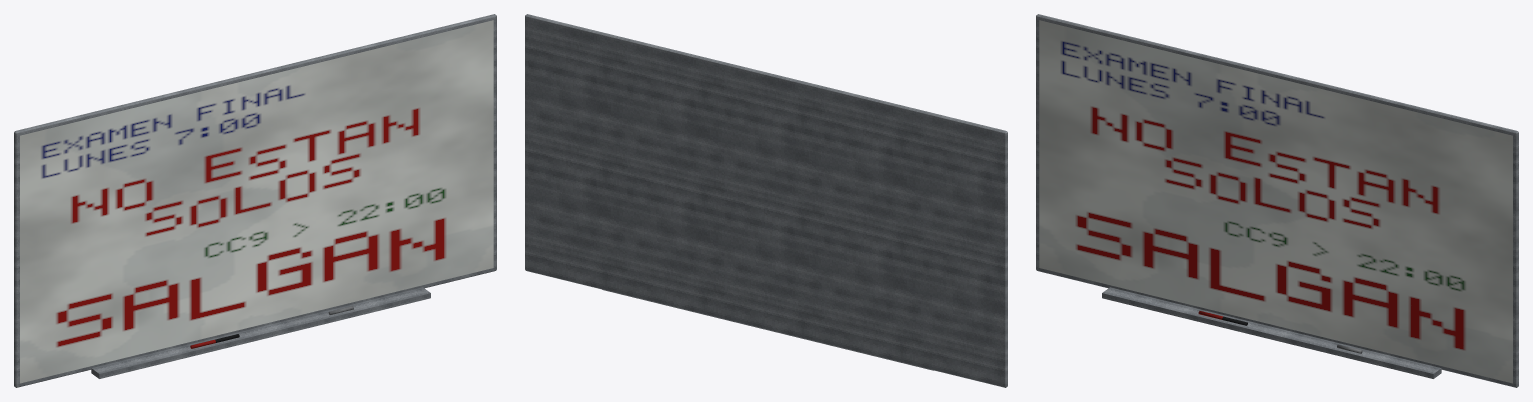
Rendered from Lab_Whiteboard.fbx.
The picture shows the model from 3 angles, left to right: view 1: azimuth 30°, elevation 25°; view 2: azimuth 150°, elevation 25°; view 3: azimuth 330°, elevation 25°; orthographic projection.
Parts seen in each view (by area): view 1: Lab_Whiteboard; view 2: Lab_Whiteboard; view 3: Lab_Whiteboard.
Part boxes in pixels (<box>): Lab_Whiteboard: <box>14,14,496,387</box>; Lab_Whiteboard: <box>525,14,1007,387</box>; Lab_Whiteboard: <box>1036,14,1518,387</box>.
Size of the model in its own units: 2.44 by 1.25 by 0.095.
